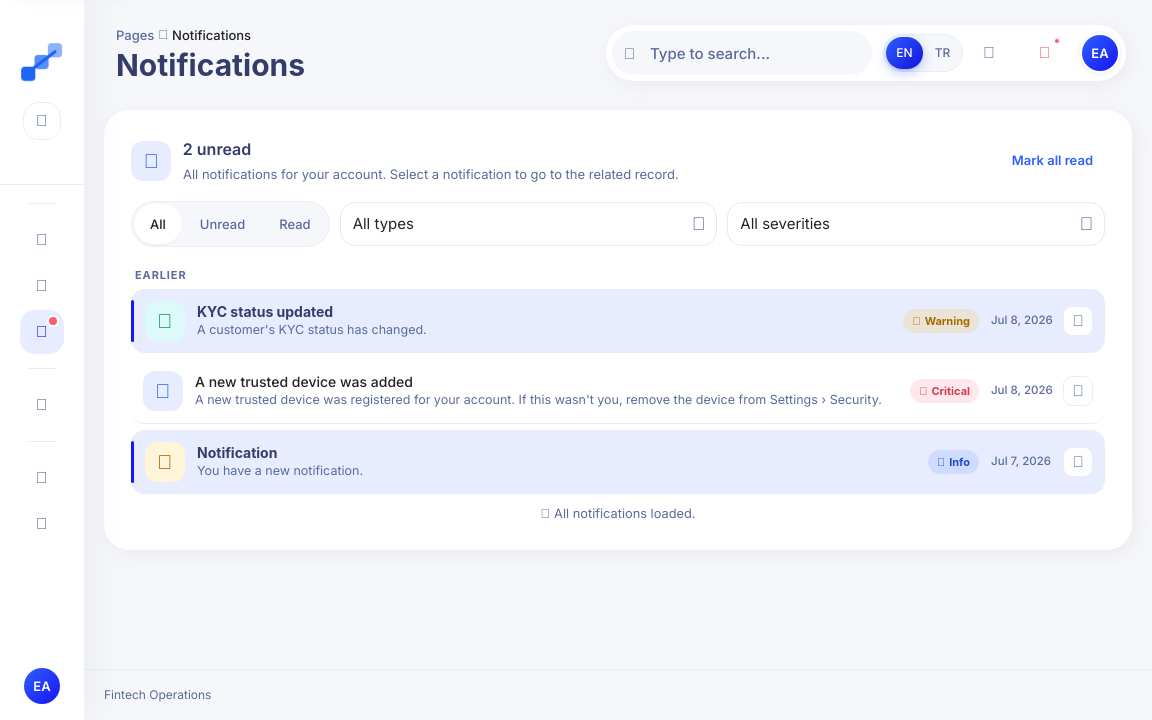
Test: Enterprise notification flows › filters, marks read, marks all, and deep-links to the related record
The width and height of the screenshot is (1152, 720).
Expected: the number of list items with class "notif-row--unread" is 2, [131,289,1105,353]; [131,430,1105,494]
Step 1. Select "2" in the 1st dropdown → x=529, y=224, box [340,202,718,246]
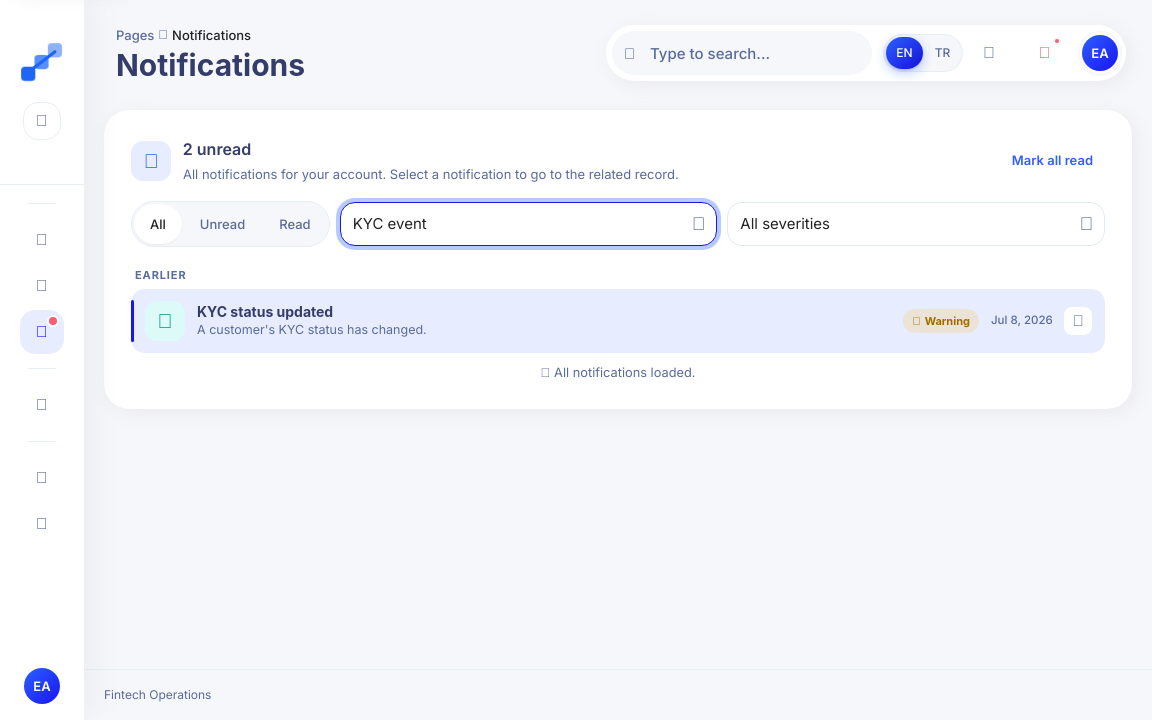
Expected: the list item with test id "notification-row-" shows "KYC status updated", [131,289,1105,353]
Step 2. Click the button with test id "notification-mark-read-" → x=1078, y=321, box [1063,306,1093,336]
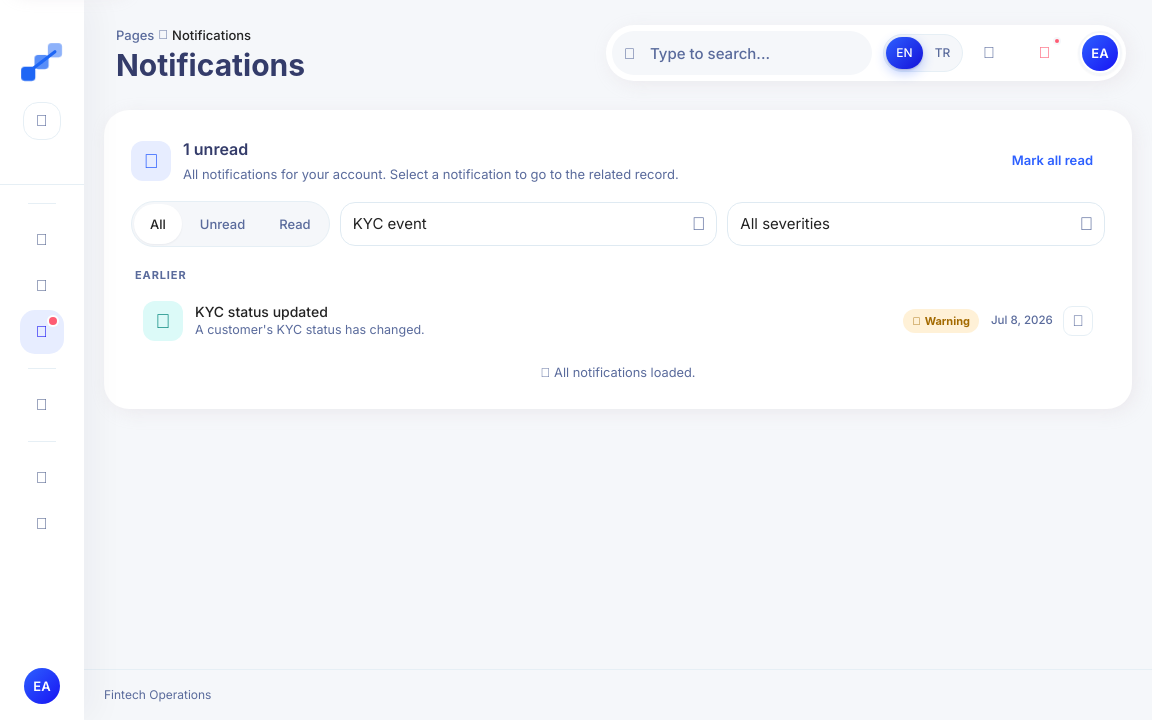
Step 3. Click the button with test id "notifications-mark-all" → x=1053, y=161, box [1000,143,1105,179]
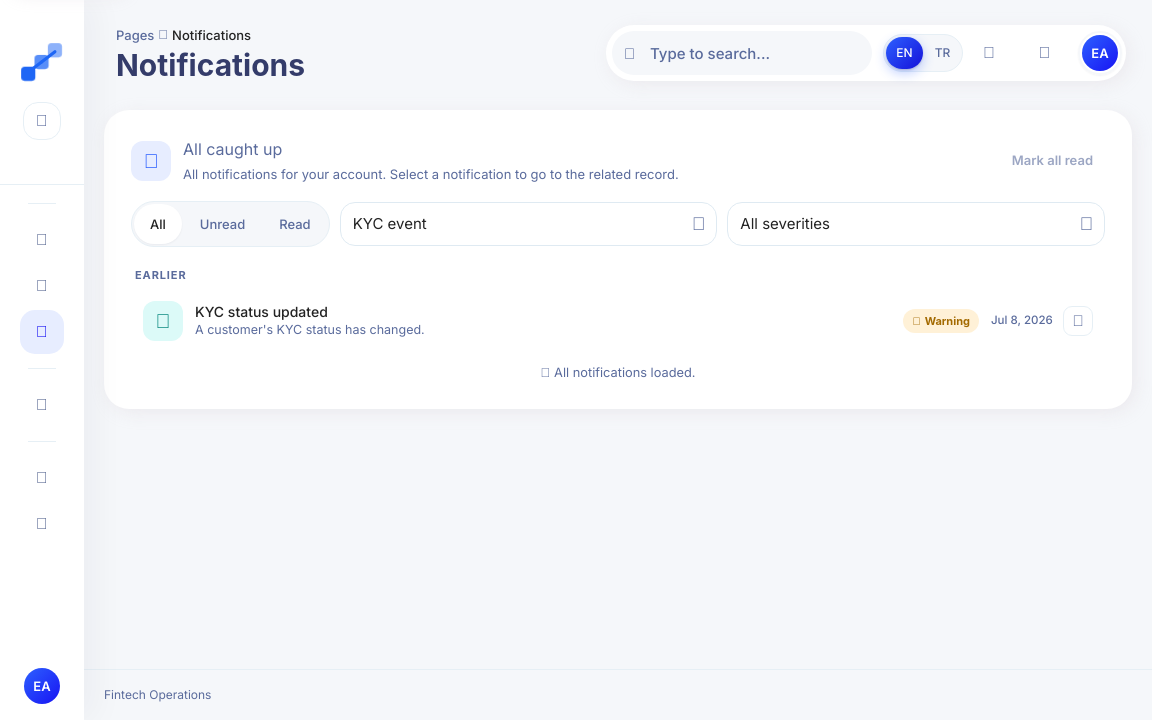
Result: the text with class "notifications-page__summary--unread" is gone
Result: the button with test id "notifications-mark-all" is disabled at [1000,143,1105,179]
Step 4. Click the button with test id "notification-open-" → x=163, y=321, box [143,301,891,341]
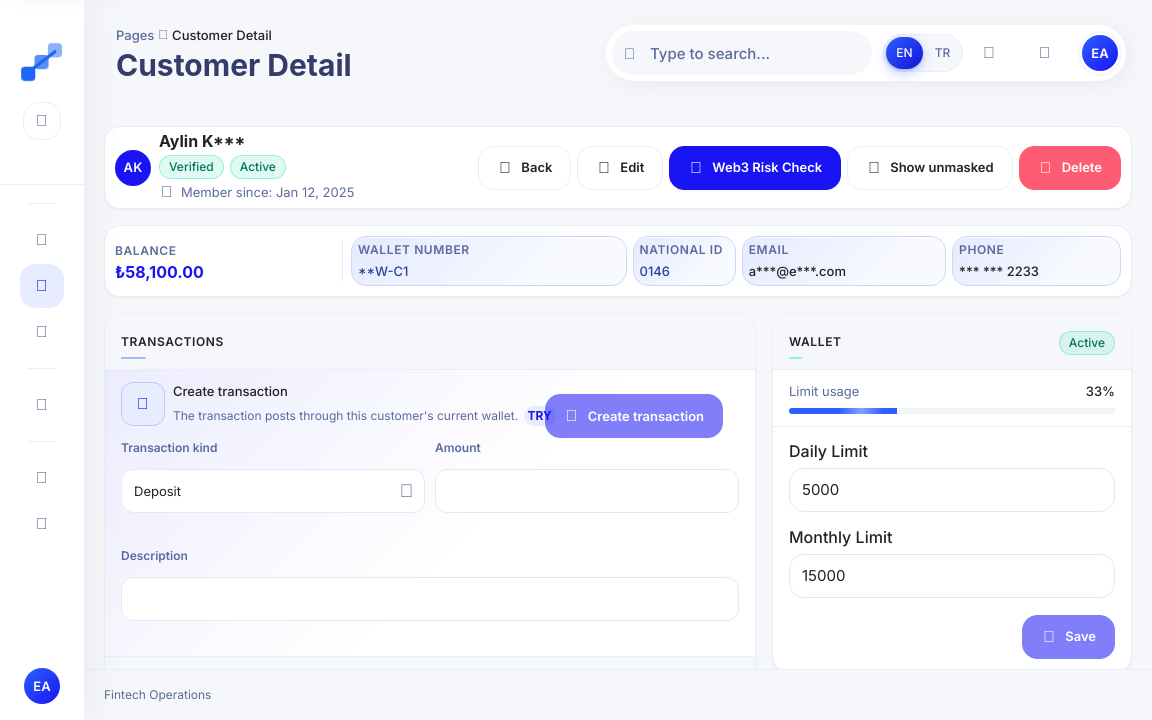
Result: the header with test id "customer-detail-summary" shows "Aylin K***" at [104,126,1132,209]
